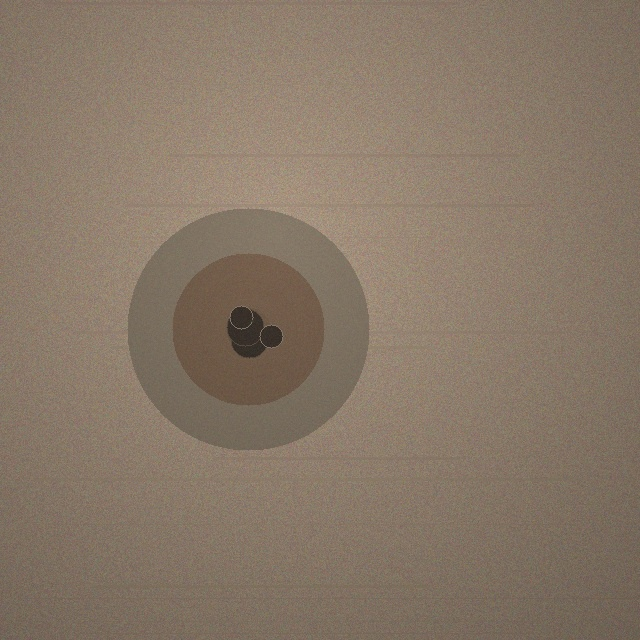shrinkage: (127, 208, 369, 450)
